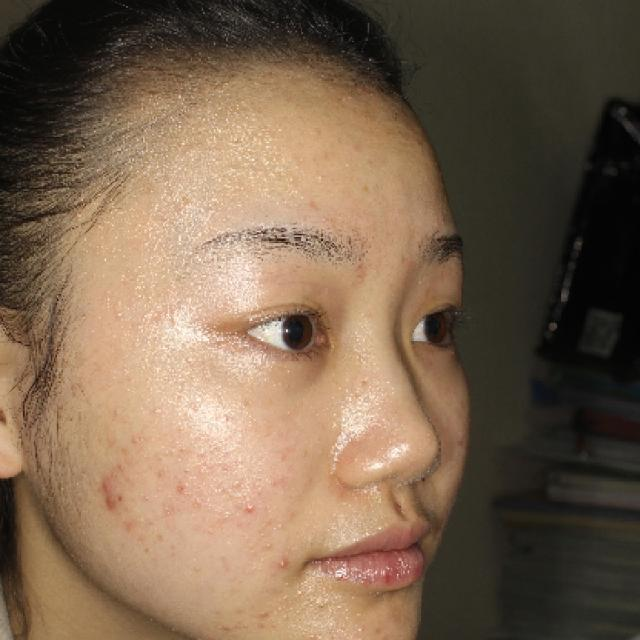Acne: (84, 471, 124, 500), (95, 492, 131, 517), (272, 546, 296, 579)
Whiteheads: (240, 498, 260, 516)
